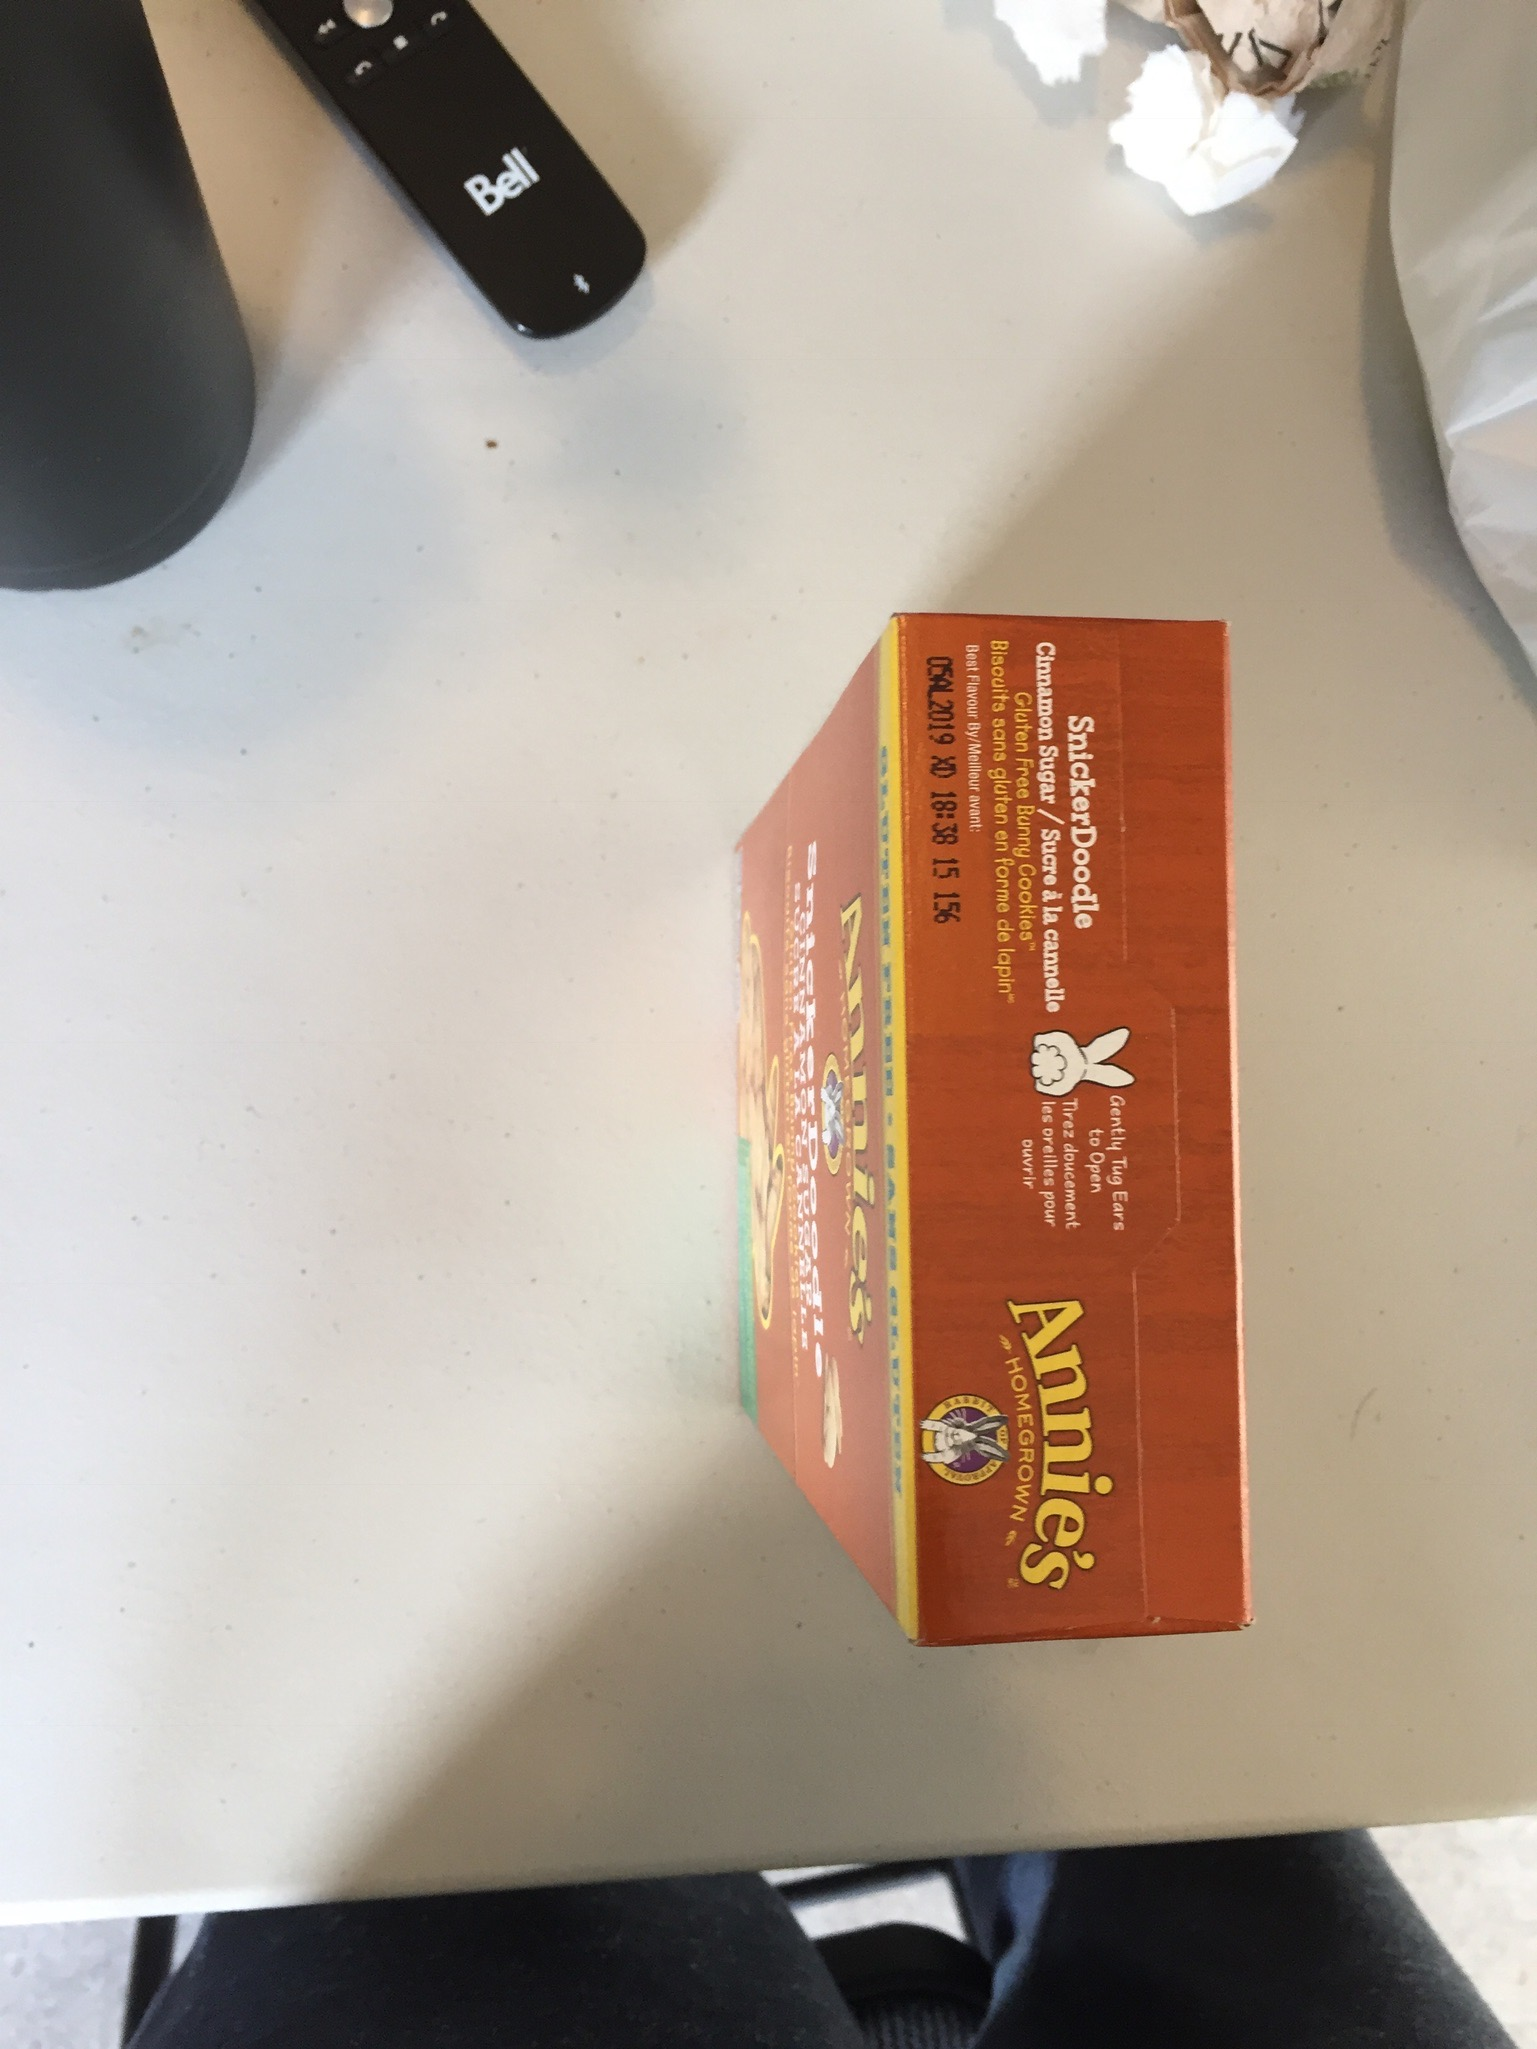annies_snickerdoodles_cinnamon_sugar: (890, 623, 1225, 1628)
